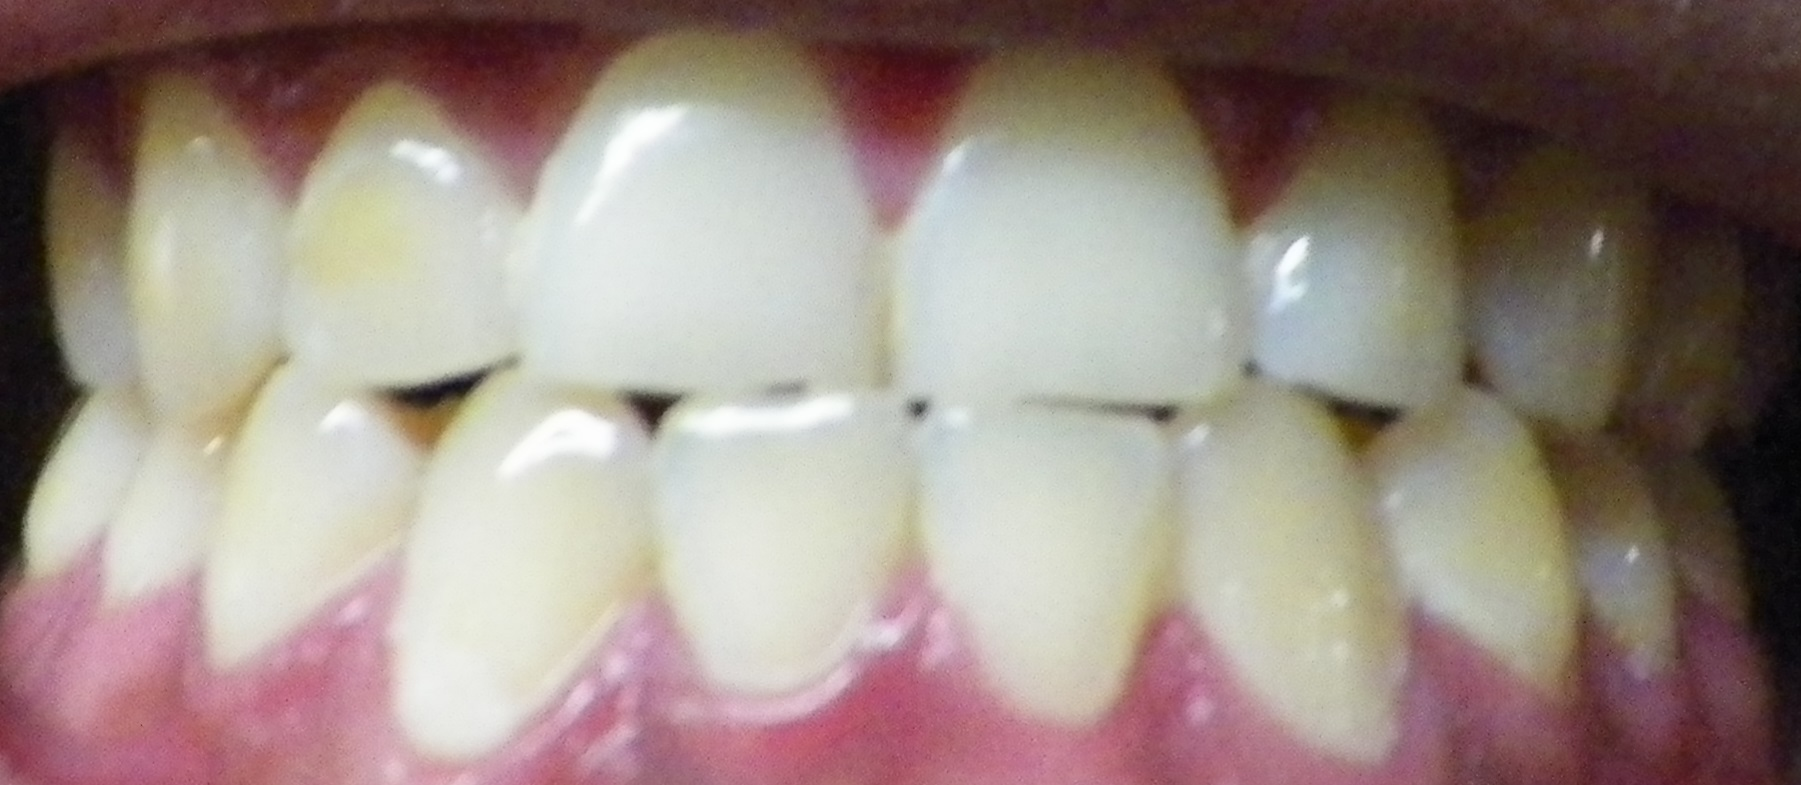boca: (42, 59, 1747, 742)
